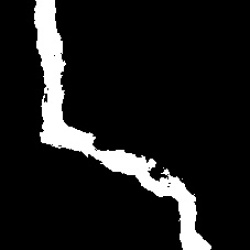crack: (35, 1, 213, 250)
